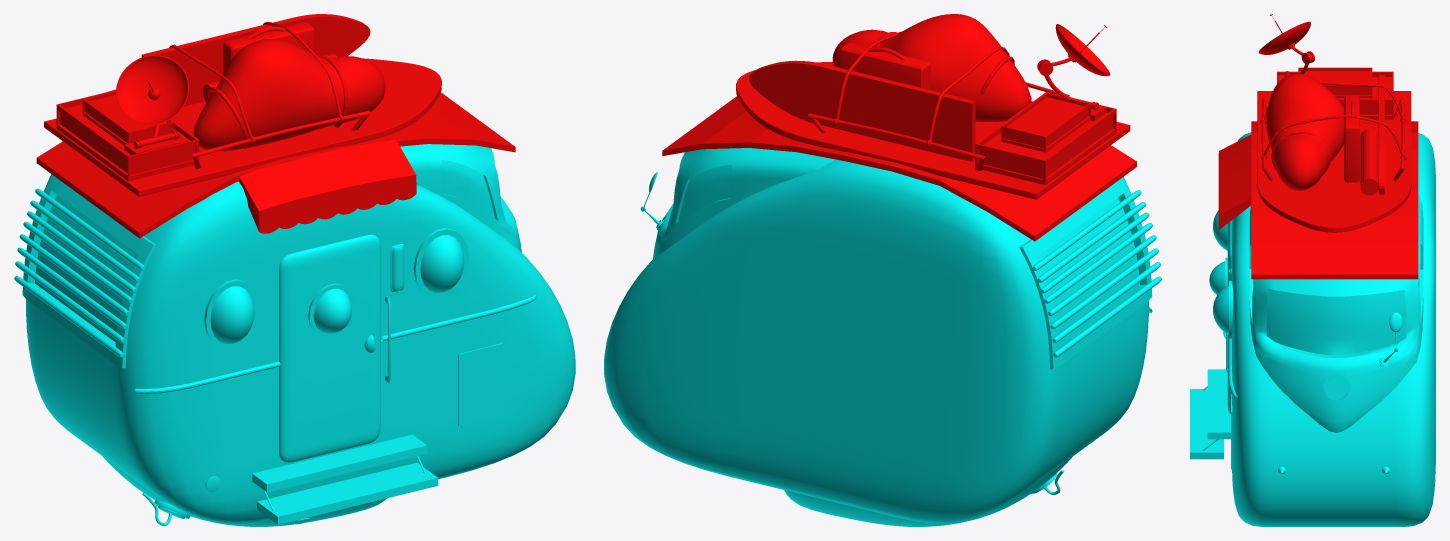
File: Alan_Cortes.FBX
The picture shows the model from 3 angles, left to right: view 1: azimuth 30°, elevation 25°; view 2: azimuth 150°, elevation 25°; view 3: azimuth 270°, elevation 25°; orthographic projection. The views are drawn at different scales.
Parts seen in each view (by area): view 1: Nave; view 2: Nave; view 3: Nave.
Boxes of the visible parts, x1,y1,x2,y2 form: Nave: [14, 14, 575, 526]; Nave: [604, 14, 1161, 526]; Nave: [1190, 14, 1435, 526].
Size of the model in its own units: 289 by 301 by 162.
